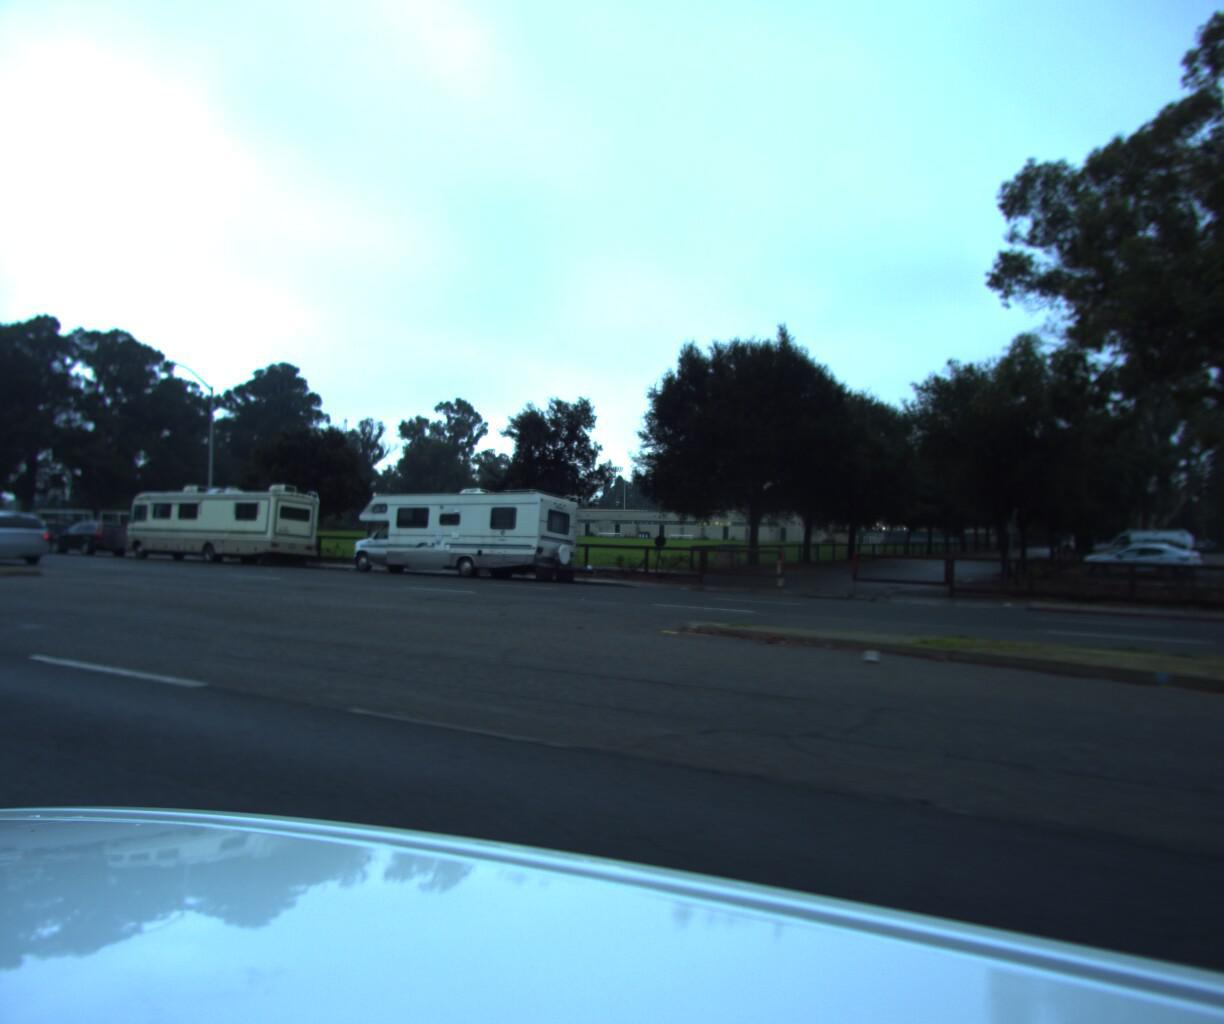car: (46, 515, 134, 558), (0, 501, 59, 562), (0, 513, 77, 554)
other_vehicle: (340, 476, 612, 588), (121, 474, 322, 570)
